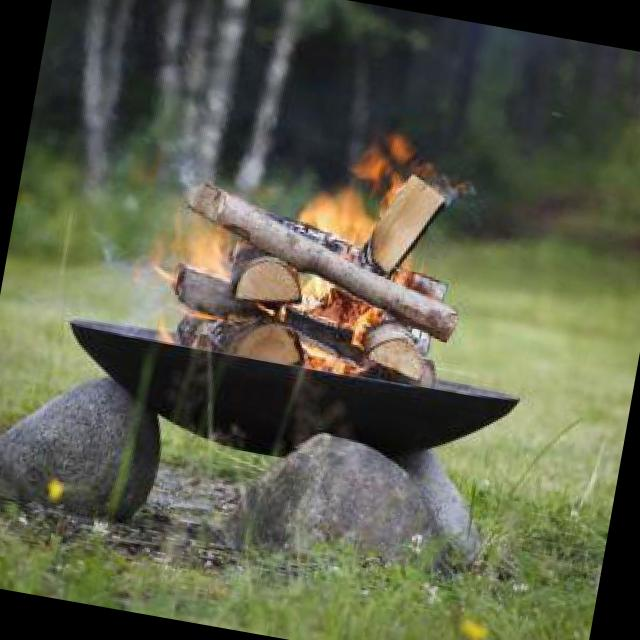Fire: (164, 96, 447, 362)
